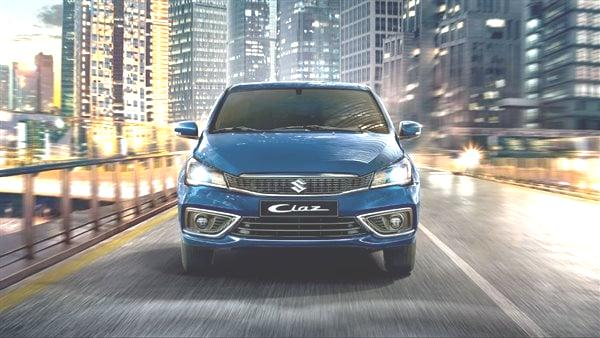suzuki: (287, 177, 310, 196)
